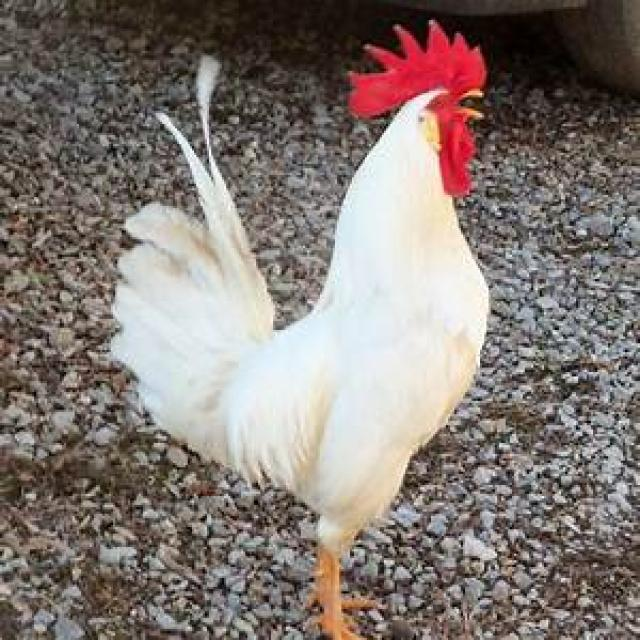hen: (107, 22, 489, 640)
